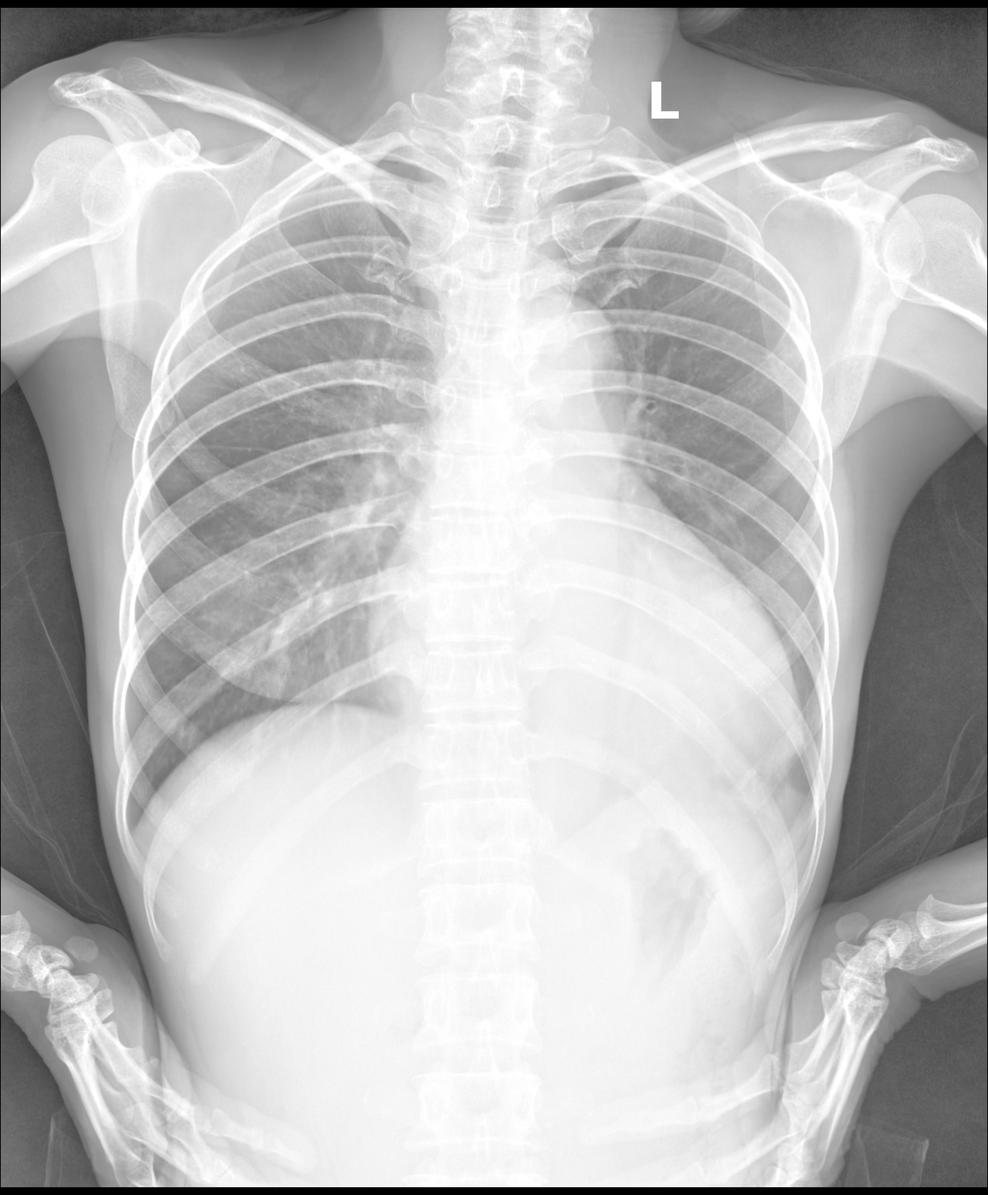Cardiomegaly: (365, 594, 805, 769)
